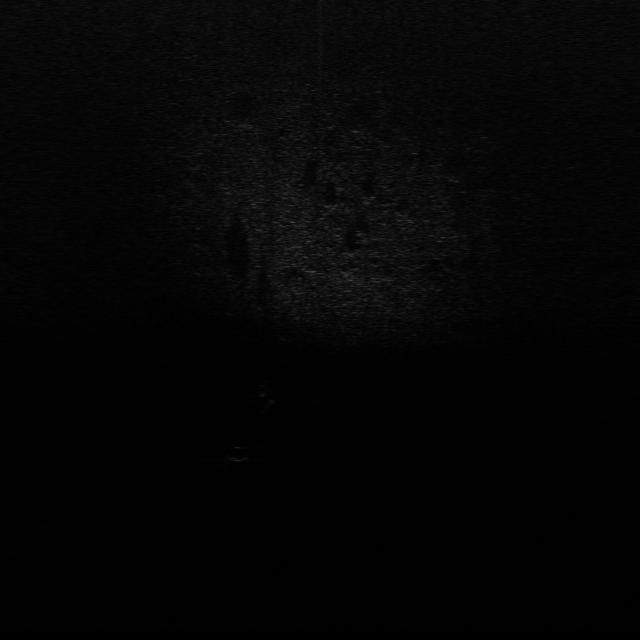ball: (227, 443, 252, 465)
human body: (254, 373, 278, 419)
